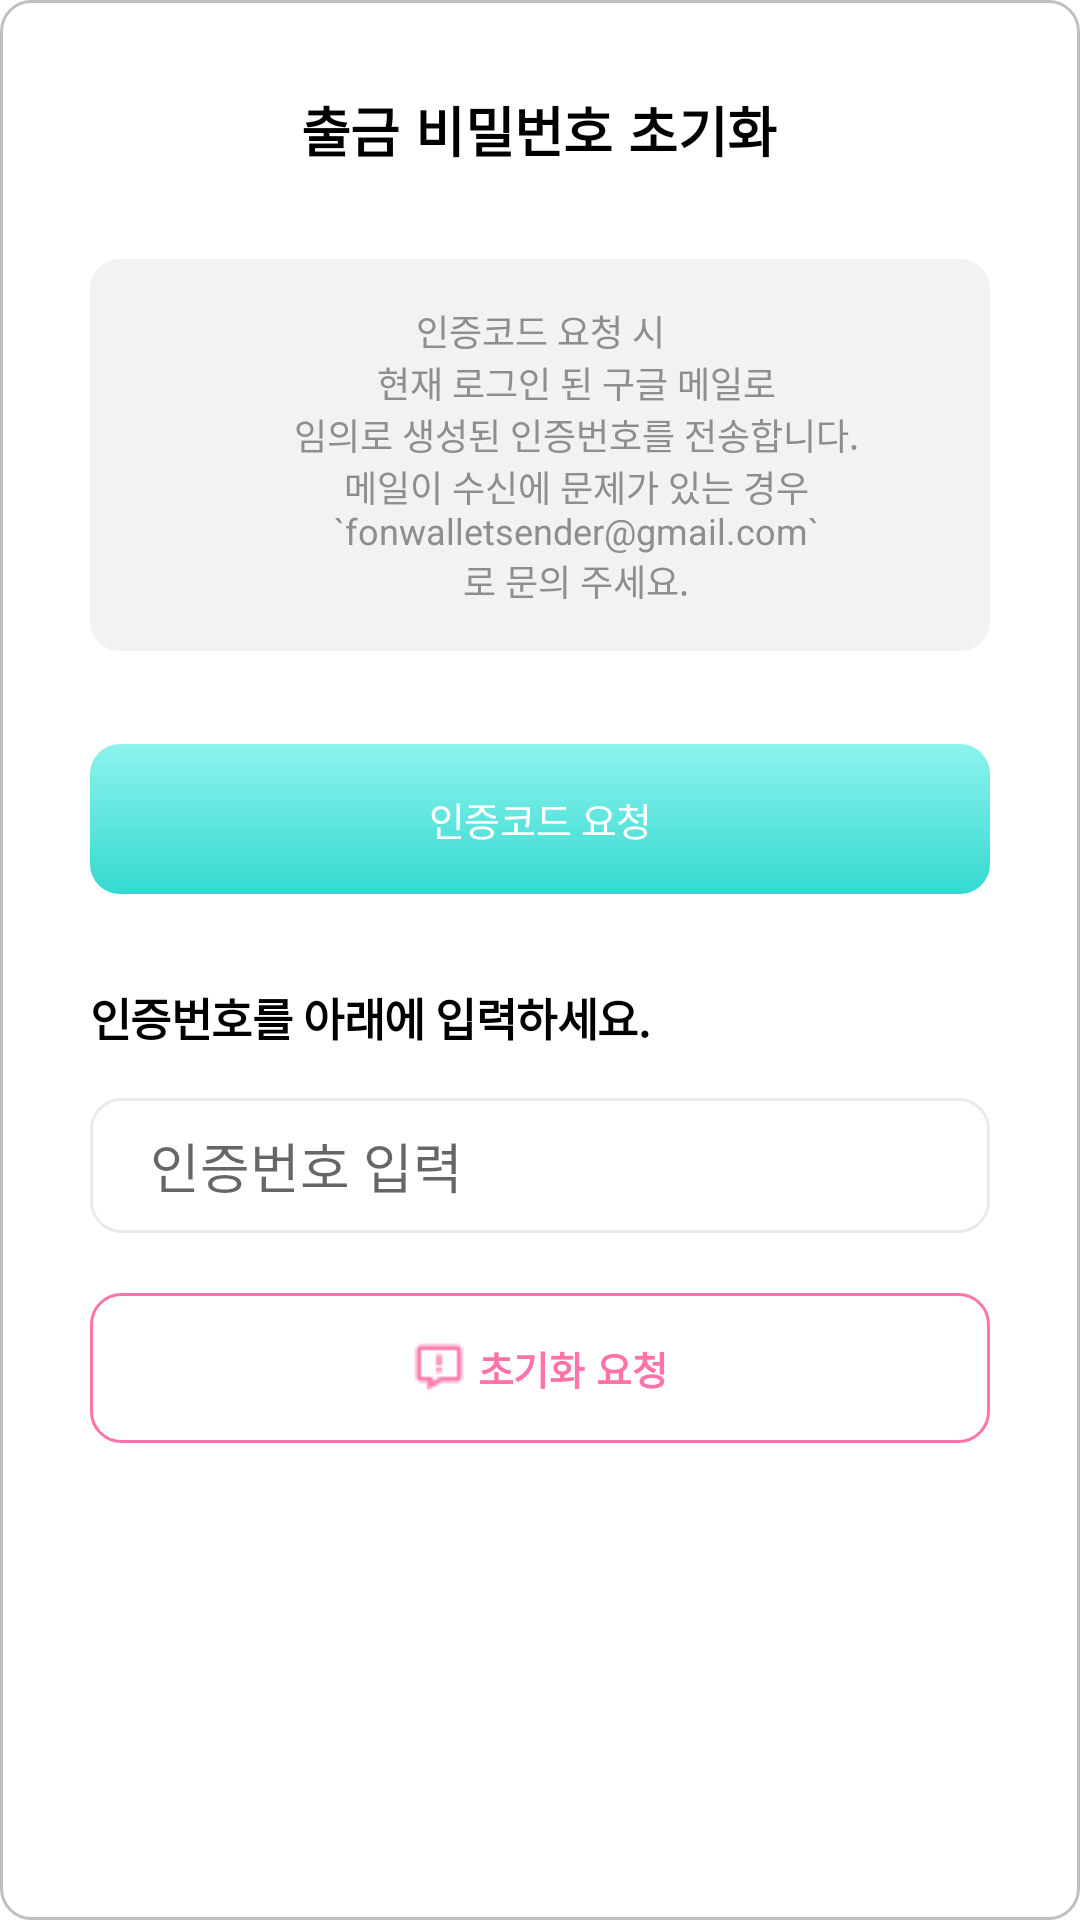

Screen size 1080*1920. Icon name, then its center in pixels as (x=x, y=y):
message error: (x=439, y=1367)
